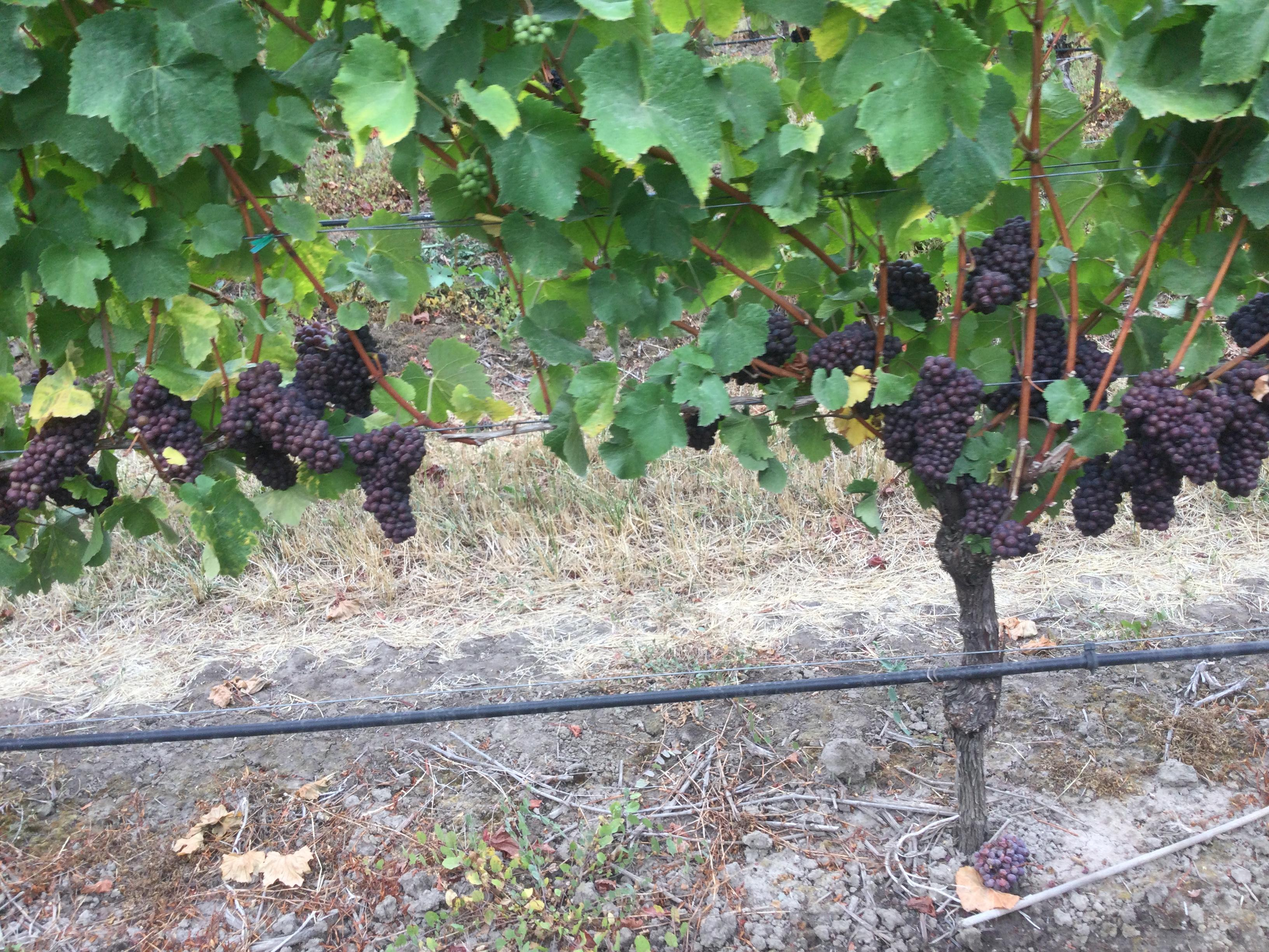leaf: (69, 10, 240, 175), (830, 2, 988, 174), (578, 34, 720, 200), (3, 48, 127, 173), (1106, 21, 1243, 120), (919, 75, 1014, 216), (487, 97, 592, 217), (332, 33, 417, 144), (177, 474, 263, 576), (620, 164, 707, 259), (108, 208, 190, 301), (402, 338, 492, 420), (156, 0, 260, 70), (280, 20, 372, 99), (411, 4, 484, 94), (13, 511, 87, 593), (1200, 0, 1268, 85), (616, 382, 686, 459), (501, 212, 580, 280), (698, 301, 768, 374), (724, 61, 780, 146), (39, 242, 111, 306), (519, 301, 593, 363), (254, 97, 320, 164), (28, 360, 94, 425), (376, 0, 459, 50), (83, 183, 146, 247), (163, 294, 219, 366), (567, 361, 619, 436), (588, 266, 651, 327), (455, 79, 520, 138), (543, 393, 589, 476), (0, 6, 41, 94), (673, 364, 730, 425), (653, 0, 743, 37), (718, 412, 773, 471), (481, 44, 542, 94), (190, 203, 245, 257), (1178, 319, 1227, 375), (251, 484, 316, 526), (811, 3, 858, 61), (598, 425, 647, 479), (1070, 410, 1126, 457), (449, 384, 515, 423), (965, 345, 1014, 392), (264, 22, 310, 72), (745, 0, 827, 26), (1044, 377, 1090, 422), (271, 198, 318, 241), (788, 418, 832, 461), (0, 536, 30, 591), (776, 121, 823, 156), (872, 370, 916, 407), (812, 368, 849, 411), (577, 0, 633, 20), (757, 456, 787, 493), (840, 0, 894, 19), (870, 9, 883, 19), (0, 119, 6, 128), (826, 12, 831, 22), (22, 552, 24, 555), (182, 36, 184, 39), (142, 220, 143, 224), (173, 30, 175, 32), (234, 213, 236, 215), (887, 4, 888, 5), (500, 130, 501, 131)
